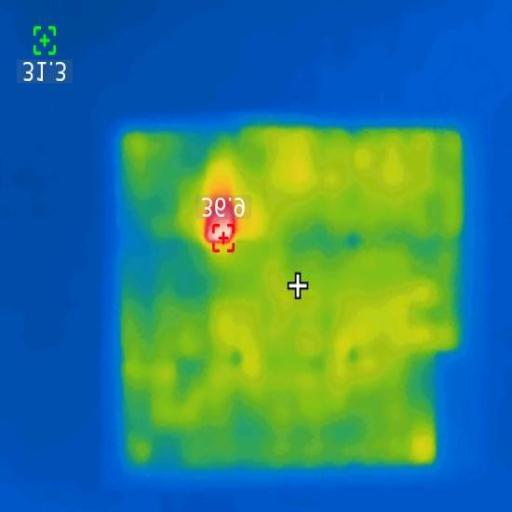hotspot: (197, 189, 247, 250)
